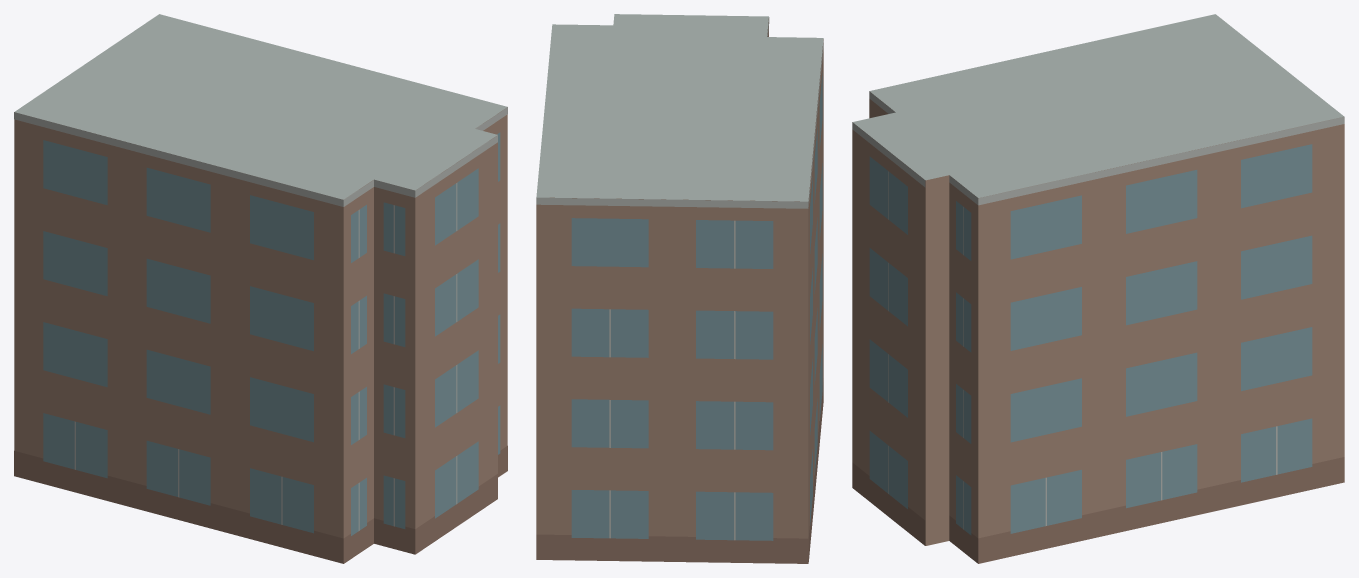
File: survey-upis-32773675.glb
The picture shows the model from 3 angles, left to right: view 1: azimuth 30°, elevation 25°; view 2: azimuth 150°, elevation 25°; view 3: azimuth 270°, elevation 25°; orthographic projection.
Visible parts, largest first — view 1: survey-upis-32773675.tmp; view 2: survey-upis-32773675.tmp; view 3: survey-upis-32773675.tmp.
Part boxes in pixels (bbox=[...]): survey-upis-32773675.tmp: bbox=[14, 14, 507, 563]; survey-upis-32773675.tmp: bbox=[536, 14, 823, 563]; survey-upis-32773675.tmp: bbox=[852, 14, 1344, 563].
Bounding box in the file's own units: 13.18 × 12.2 × 14.88.
